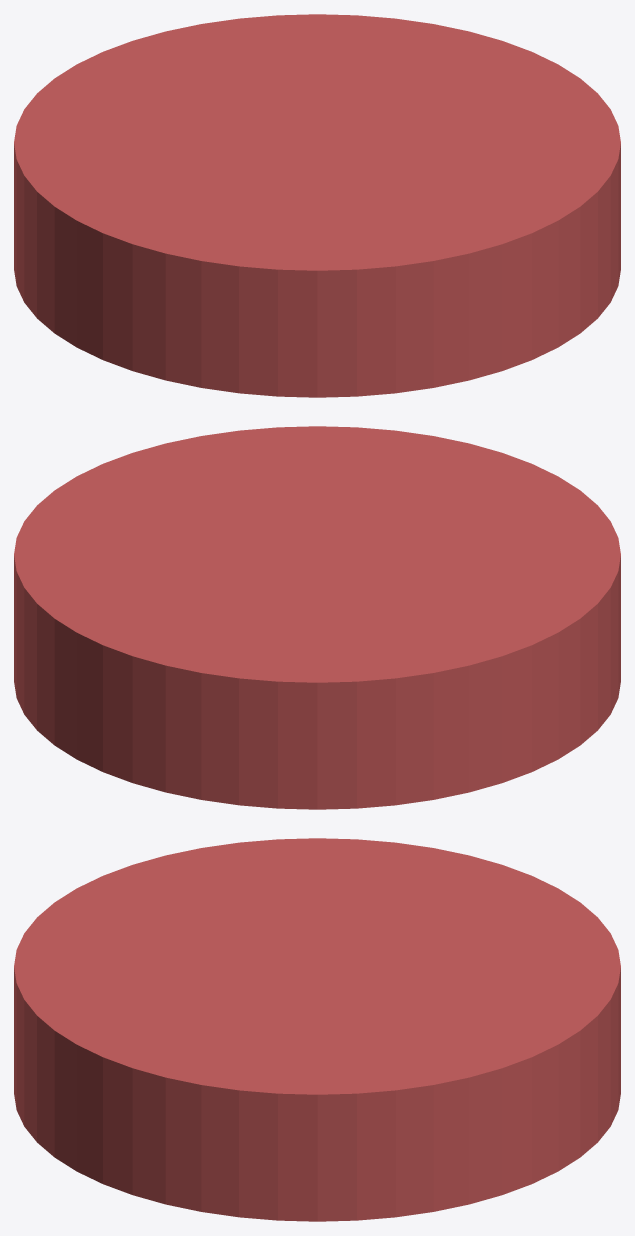
File: coin_red.glb
The picture shows the model from 3 angles, top to bottom: view 1: azimuth 30°, elevation 25°; view 2: azimuth 150°, elevation 25°; view 3: azimuth 270°, elevation 25°; orthographic projection.
Visible parts, largest first — view 1: world; view 2: world; view 3: world.
Part boxes in pixels (x1,y1,x2,y2): world: (14, 14, 620, 397); world: (14, 426, 620, 809); world: (14, 838, 620, 1221).
Bounding box in the file's own units: 0.78 × 0.18 × 0.78.
